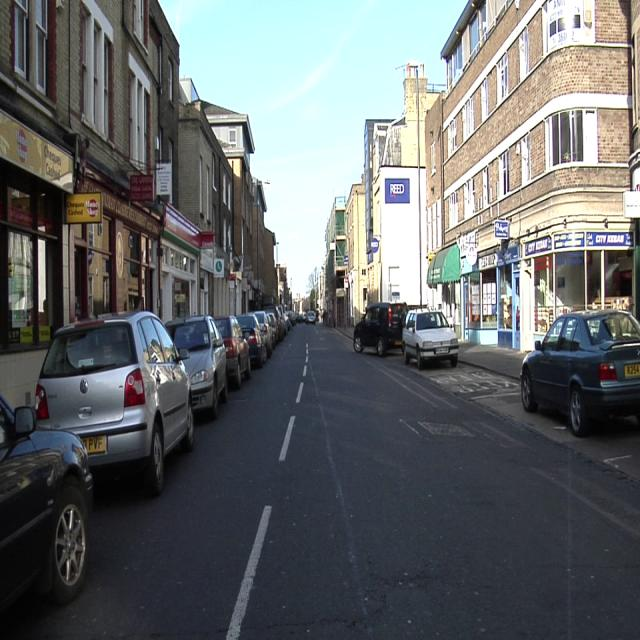Building: (0, 0, 204, 401), (442, 0, 634, 348), (179, 78, 276, 316), (365, 62, 440, 305), (324, 180, 368, 327)
Car: (35, 312, 194, 493), (0, 395, 92, 609), (521, 310, 640, 436), (168, 315, 228, 418), (402, 310, 459, 368), (354, 303, 408, 356), (215, 317, 251, 388), (238, 313, 268, 368), (254, 310, 278, 356), (280, 315, 285, 334)
Road: (0, 327, 640, 640)
